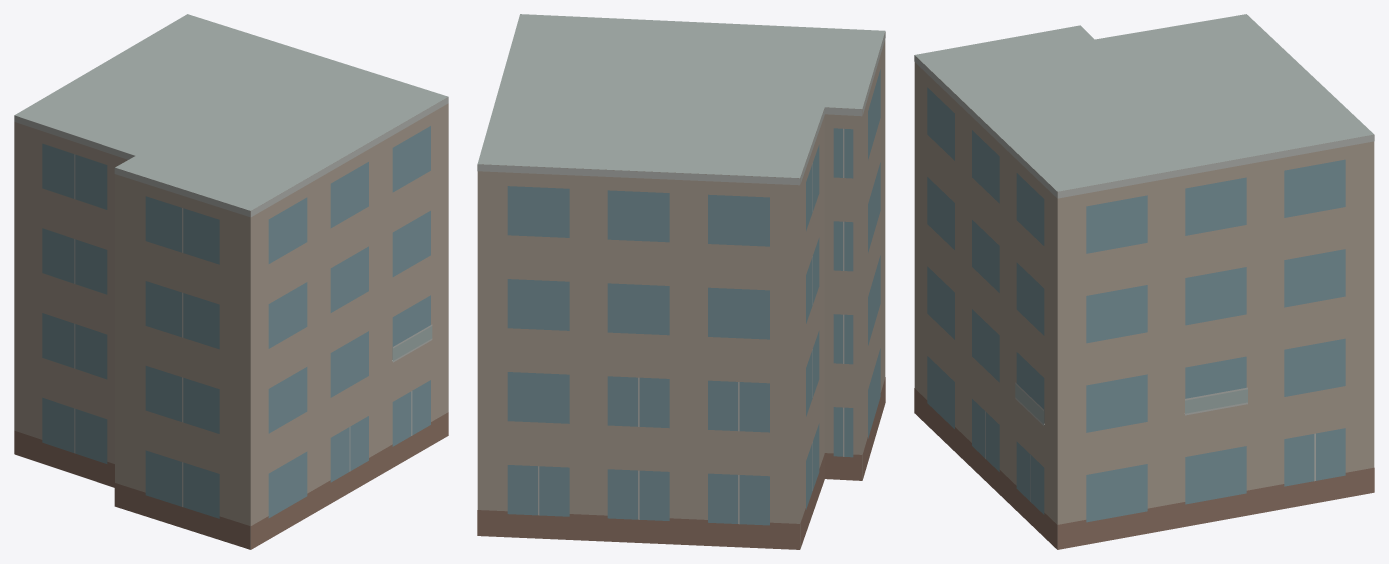
Rendered from survey-upis-32935230.glb.
3 views of the same model, side by side, from view 1: azimuth 30°, elevation 25°; view 2: azimuth 150°, elevation 25°; view 3: azimuth 270°, elevation 25° (orthographic). The views are drawn at different scales.
Parts seen in each view (by area): view 1: survey-upis-32935230.tmp; view 2: survey-upis-32935230.tmp; view 3: survey-upis-32935230.tmp.
Part boxes in pixels (left/top/right/bottom): survey-upis-32935230.tmp: left=14, top=14, right=448, bottom=549; survey-upis-32935230.tmp: left=477, top=14, right=885, bottom=549; survey-upis-32935230.tmp: left=914, top=14, right=1374, bottom=549.
Bounding box in the file's own units: 13.64 × 12.8 × 14.91.
